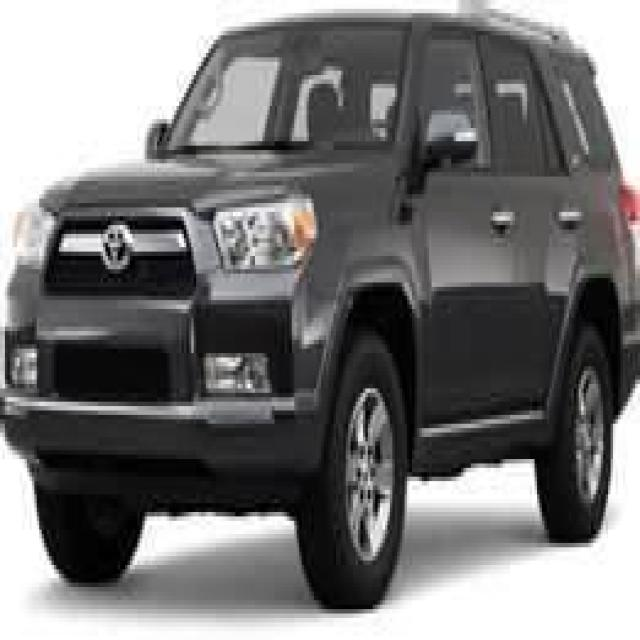Car: (7, 9, 628, 618)
